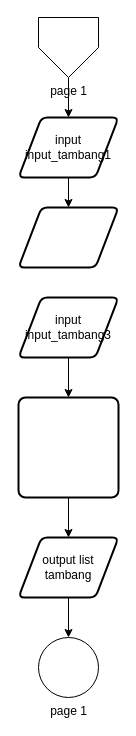
The diagram is 136 pixels wide and 736 high, and some of its shapes have lost their labels. Here are the shapes that lost their labels. From the top down, the centre of each, then its label:
At pixel 68 237: "input input_tambang2".
At pixel 68 447: "tambang.append ([input_tambang1, input_tambang2, input_tambang3])".
